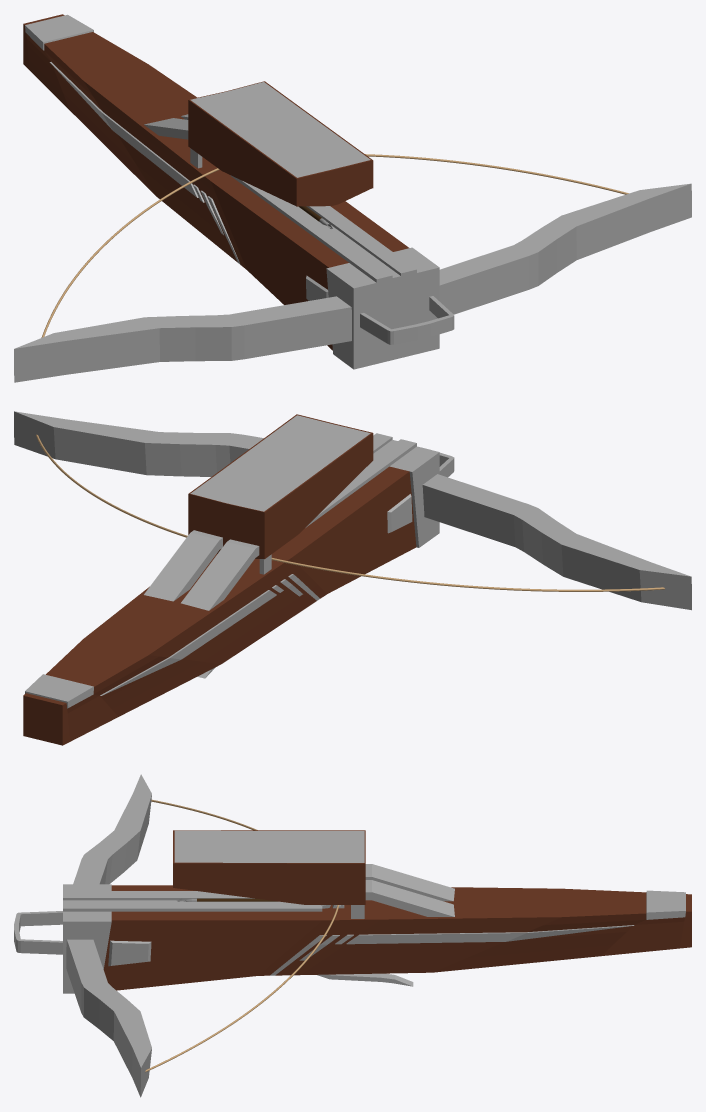
File: autocrossbow.fbx
The picture shows the model from 3 angles, top to bottom: view 1: azimuth 30°, elevation 25°; view 2: azimuth 150°, elevation 25°; view 3: azimuth 270°, elevation 25°; orthographic projection. The views are drawn at different scales.
Visible parts, largest first — view 1: ammoboxcover; view 2: ammoboxcover; view 3: ammoboxcover.
Boxes of the visible parts, x1,y1,x2,y2 form: ammoboxcover: (14, 14, 691, 382); ammoboxcover: (14, 411, 691, 745); ammoboxcover: (14, 774, 691, 1097).
Size of the model in its own units: 339 by 74.1 by 331.
